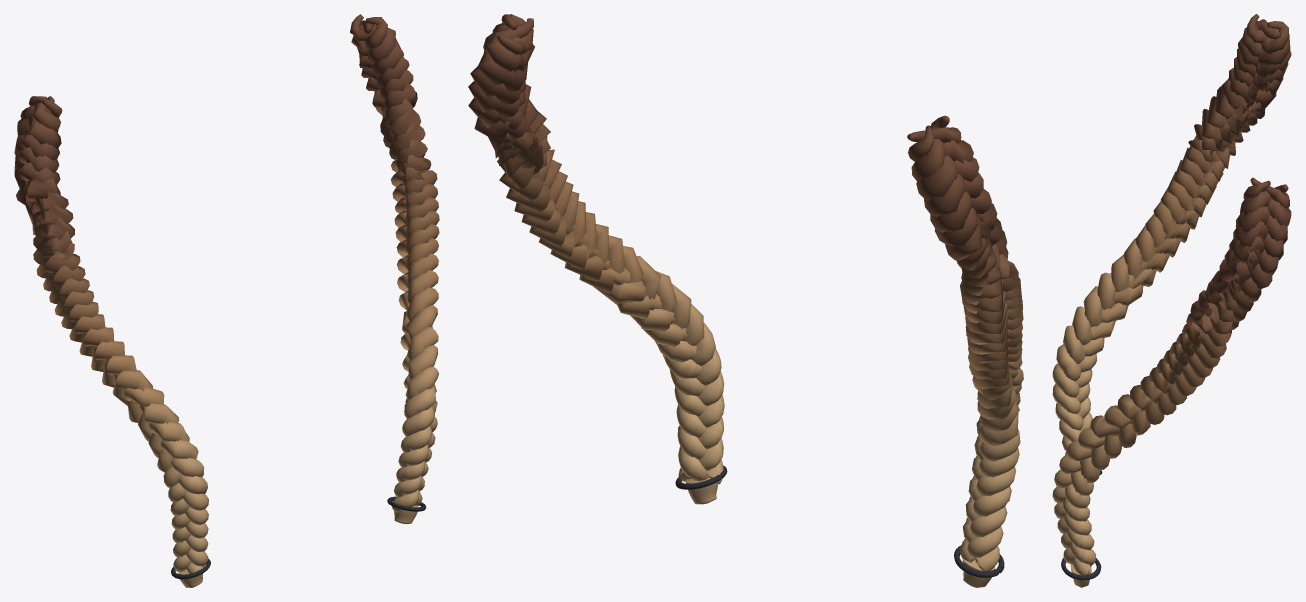
The model's file is twins-none-strappy-ombre.glb.
The picture shows the model from 3 angles, left to right: view 1: azimuth 30°, elevation 25°; view 2: azimuth 150°, elevation 25°; view 3: azimuth 270°, elevation 25°; orthographic projection. The views are drawn at different scales.
Visible parts, largest first — view 1: 226 hairLengths / Hair / chestnut226; view 2: 226 hairLengths / Hair / chestnut226, 226 hairLengths / Hair / ties226; view 3: 226 hairLengths / Hair / chestnut226, 226 hairLengths / Hair / ties226.
Boxes of the visible parts, left/top/right/bottom form: 226 hairLengths / Hair / chestnut226: left=14, top=14, right=439, bottom=587; 226 hairLengths / Hair / chestnut226: left=468, top=14, right=1023, bottom=587; 226 hairLengths / Hair / ties226: left=675, top=465, right=1004, bottom=577; 226 hairLengths / Hair / chestnut226: left=1052, top=14, right=1291, bottom=587; 226 hairLengths / Hair / ties226: left=1061, top=470, right=1102, bottom=580.
Bounding box in the file's own units: 0.8713 × 0.9289 × 0.4504.
2 materials, 1 textured.
